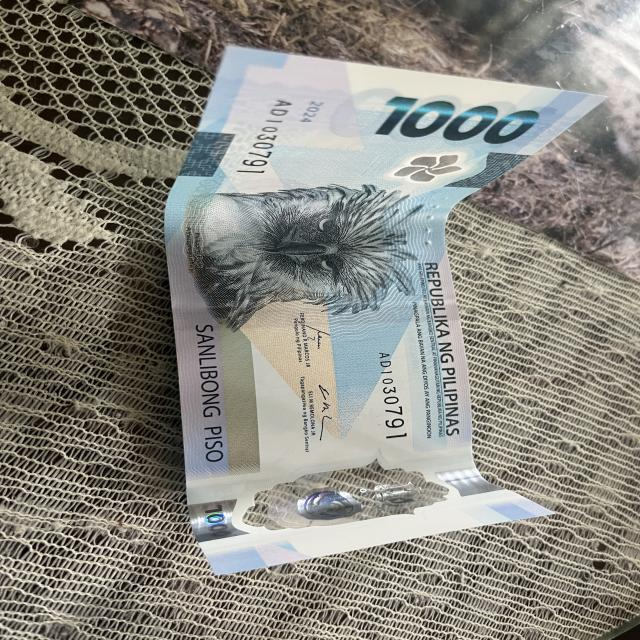clear_window: (183, 434, 519, 557)
eagle: (195, 179, 420, 321)
sampaguita: (350, 140, 480, 192)
security_thread: (172, 296, 460, 330)
serial_number: (224, 93, 301, 177), (371, 339, 423, 445)
